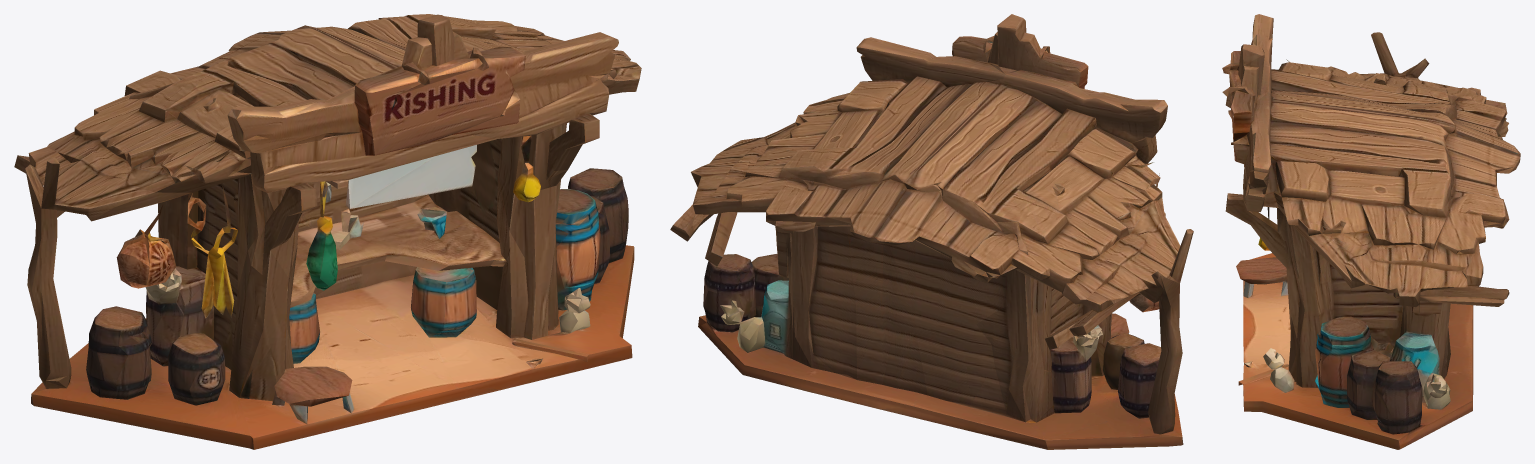
Rendered from shop2.glb.
The picture shows the model from 3 angles, left to right: view 1: azimuth 30°, elevation 25°; view 2: azimuth 150°, elevation 25°; view 3: azimuth 270°, elevation 25°; orthographic projection. The views are drawn at different scales.
Size of the model in its own units: 1.9 by 1.16 by 1.06.
1 material, 1 textured.
